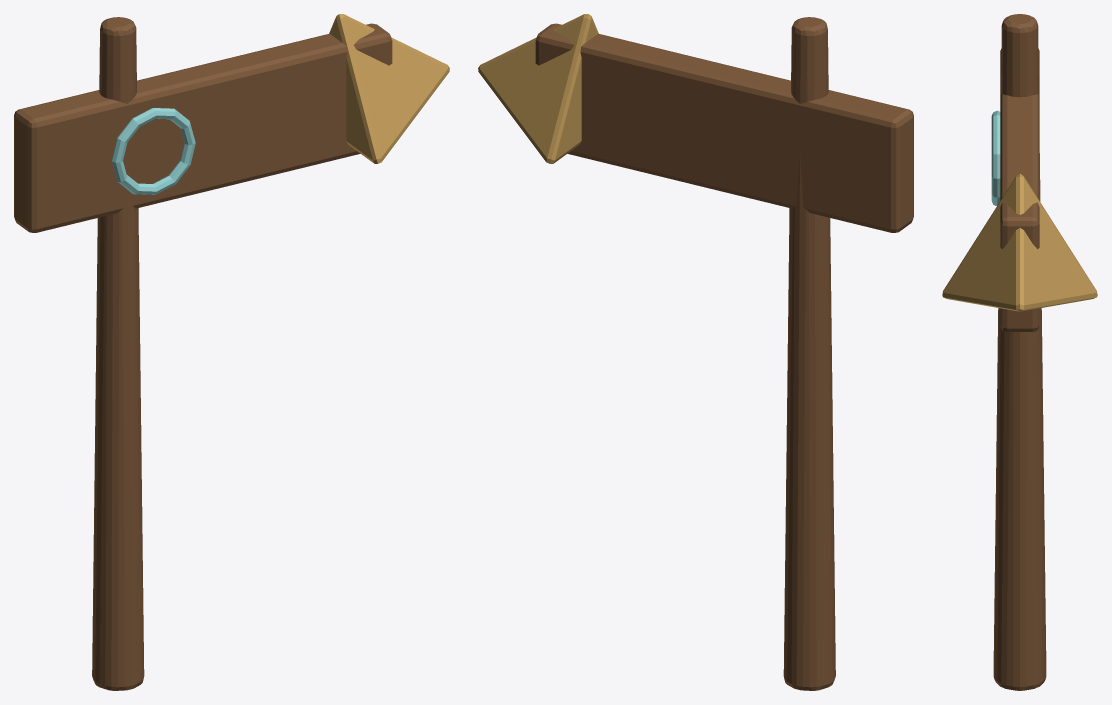
Rendered from trail_sign.glb.
3 renders of one model, left to right at view 1: azimuth 30°, elevation 25°; view 2: azimuth 150°, elevation 25°; view 3: azimuth 270°, elevation 25°, orthographic.
Visible parts, largest first — view 1: Post, ArrowPoint, TrailRune; view 2: Post, ArrowPoint; view 3: Post, ArrowPoint, TrailRune.
Boxes of the visible parts, x1,y1,x2,y2 form: Post: (14,17,392,690); ArrowPoint: (329,14,449,163); TrailRune: (111,108,195,194); Post: (535,17,913,690); ArrowPoint: (478,14,598,163); Post: (993,14,1046,690); ArrowPoint: (942,174,1097,311); TrailRune: (991,110,1000,205).
Bounding box in the file's own units: 1.77 × 2.6 × 0.5526.
